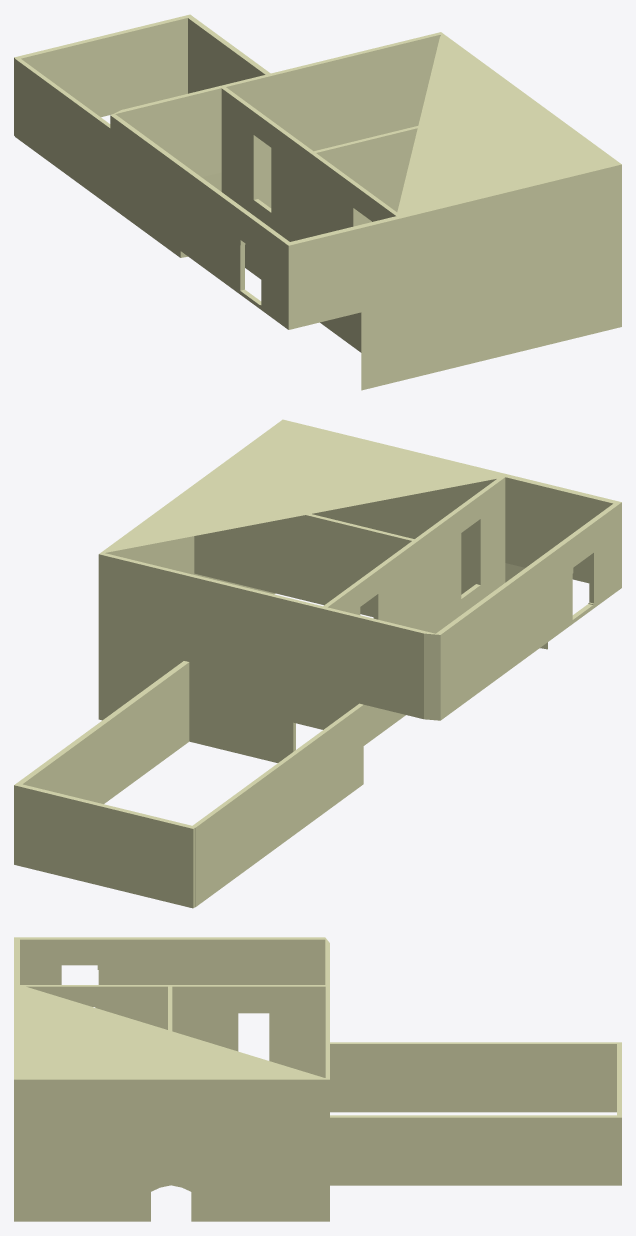
The model's file is wholeRoomWalls.fbx.
3 renders of one model, top to bottom at view 1: azimuth 30°, elevation 25°; view 2: azimuth 150°, elevation 25°; view 3: azimuth 270°, elevation 25°, orthographic. The views are drawn at different scales.
Parts seen in each view (by area): view 1: Cube.015; view 2: Cube.015; view 3: Cube.015.
Part boxes in pixels (bbox=[...]): Cube.015: bbox=[14, 14, 621, 390]; Cube.015: bbox=[14, 419, 621, 908]; Cube.015: bbox=[14, 937, 621, 1221].
Size of the model in its own units: 7057 by 3287 by 12759.
